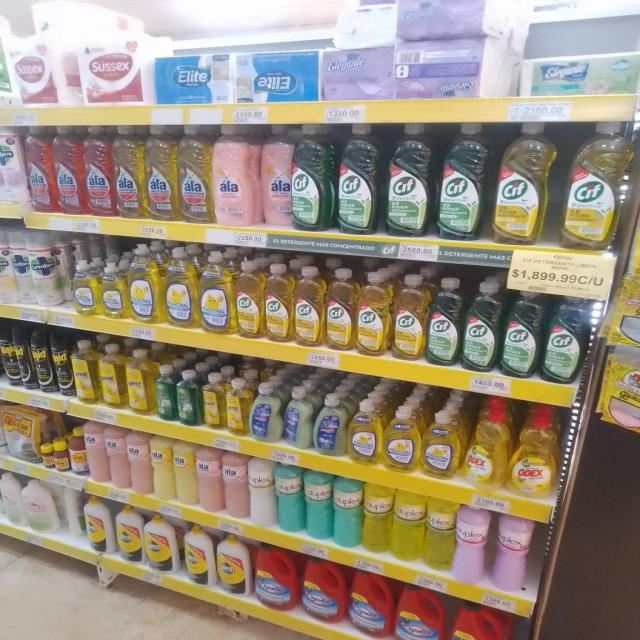ala_conc_amarillo: (179, 124, 211, 224), (146, 124, 178, 222), (114, 124, 145, 220)
ala_conc_rojo: (84, 125, 113, 217), (55, 125, 83, 215), (26, 124, 54, 213)
ala_crem_amarillo: (363, 484, 391, 554), (174, 440, 196, 506), (151, 436, 173, 501)
ala_crem_rosado: (222, 451, 248, 520), (197, 446, 222, 513), (107, 424, 128, 490), (129, 430, 150, 495), (85, 421, 107, 483)
ala_ultra_rosa: (213, 123, 258, 227), (260, 123, 292, 228)
cif_conc_bot_amarilla: (562, 120, 628, 252), (493, 121, 552, 245), (393, 273, 426, 361), (357, 270, 390, 357), (294, 266, 324, 348), (326, 267, 355, 351), (264, 262, 292, 342), (236, 259, 263, 339)
cif_conc_botella_verde: (438, 121, 488, 241), (386, 122, 434, 238), (336, 122, 382, 235), (293, 122, 334, 232), (542, 291, 588, 384), (502, 286, 541, 378), (463, 280, 500, 373), (427, 276, 461, 366)
esencial: (392, 490, 424, 562)
heroe: (425, 497, 455, 572), (333, 476, 362, 548), (305, 469, 333, 540), (249, 457, 275, 528)
magistral_con_amarillo: (199, 250, 234, 335), (422, 409, 462, 480), (129, 244, 163, 325), (165, 246, 198, 329), (384, 404, 420, 474), (348, 398, 382, 466), (100, 260, 127, 320), (72, 260, 99, 316)
odex: (509, 410, 558, 500), (465, 404, 507, 489)
zorro: (314, 392, 346, 457), (283, 385, 312, 449), (251, 382, 281, 443)
